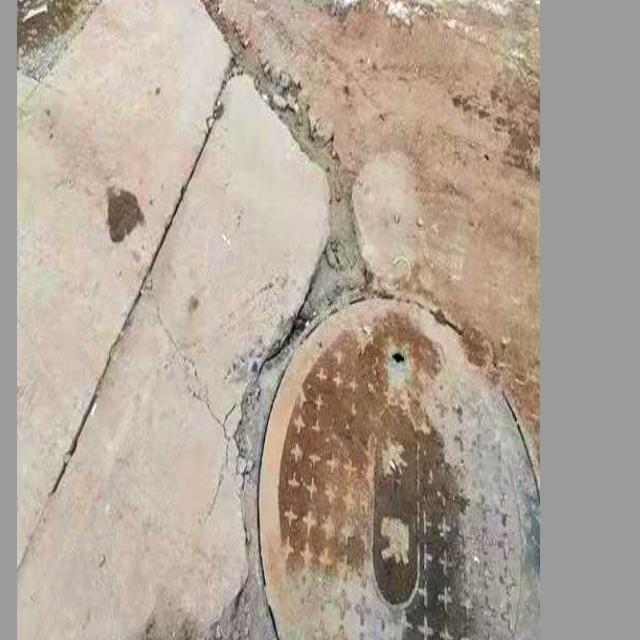circle: (167, 256, 534, 640)
